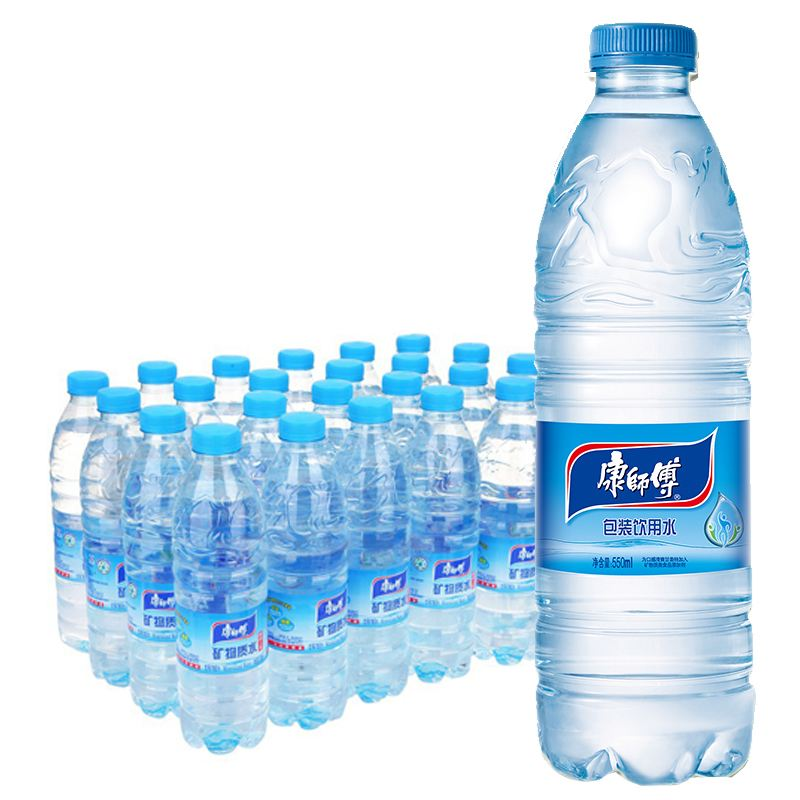amwater: (35, 324, 576, 759), (524, 8, 782, 787)
